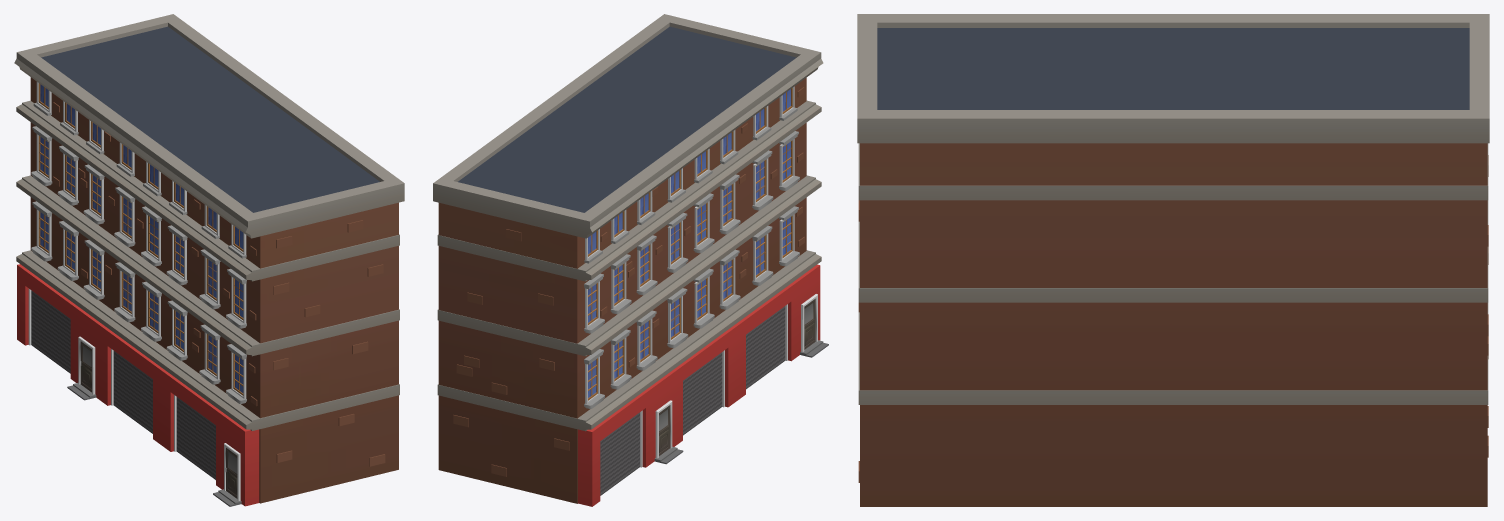
Rendered from Building_20_1_I.fbx.
The picture shows the model from 3 angles, left to right: view 1: azimuth 30°, elevation 25°; view 2: azimuth 150°, elevation 25°; view 3: azimuth 270°, elevation 25°; orthographic projection. The views are drawn at different scales.
Visible parts, largest first — view 1: Building_20_1_I; view 2: Building_20_1_I; view 3: Building_20_1_I.
Boxes of the visible parts, x1=… form: Building_20_1_I: x1=14, y1=14, x2=404, y2=506; Building_20_1_I: x1=433, y1=14, x2=828, y2=506; Building_20_1_I: x1=857, y1=14, x2=1489, y2=506.
Size of the model in its own units: 774 by 1247 by 1827.
